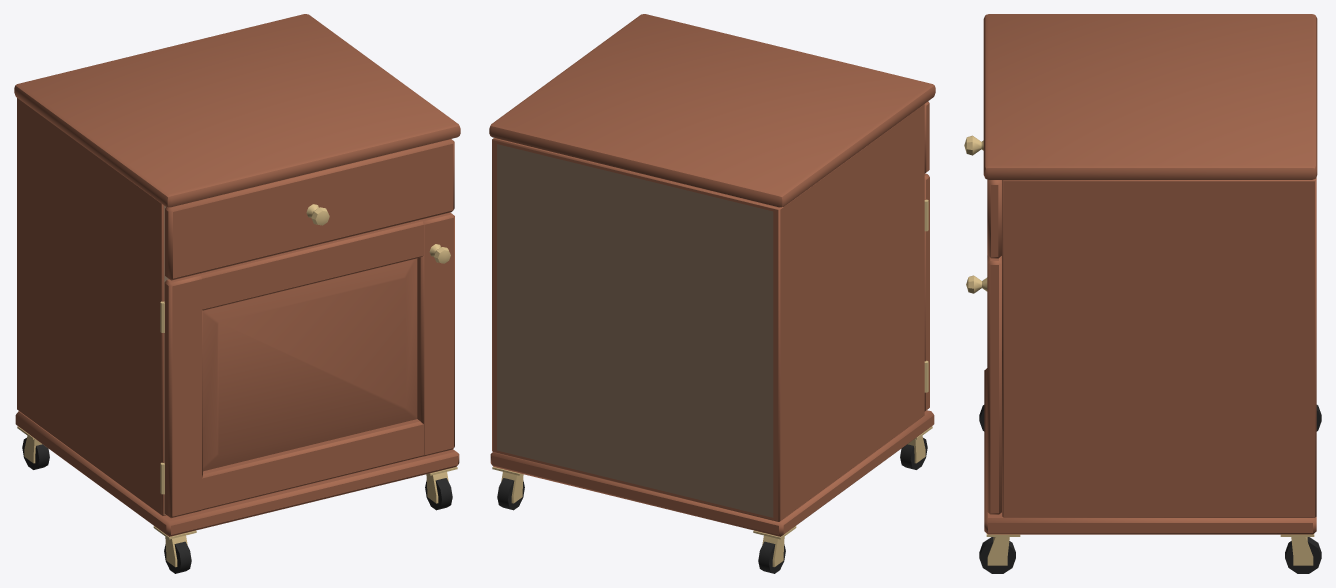
Rendered from Kit_RollingCabinet.fbx.
3 renders of one model, left to right at view 1: azimuth 30°, elevation 25°; view 2: azimuth 150°, elevation 25°; view 3: azimuth 270°, elevation 25°, orthographic. The views are drawn at different scales.
Parts seen in each view (by area): view 1: Kit_RollingCabinet_LOD0; view 2: Kit_RollingCabinet_LOD0; view 3: Kit_RollingCabinet_LOD0.
Part boxes in pixels (<box>): Kit_RollingCabinet_LOD0: <box>14,14,460,573</box>; Kit_RollingCabinet_LOD0: <box>489,14,935,573</box>; Kit_RollingCabinet_LOD0: <box>964,14,1321,573</box>.
Size of what is drawn, in the model's own units: 0.5 by 0.62 by 0.4865.
